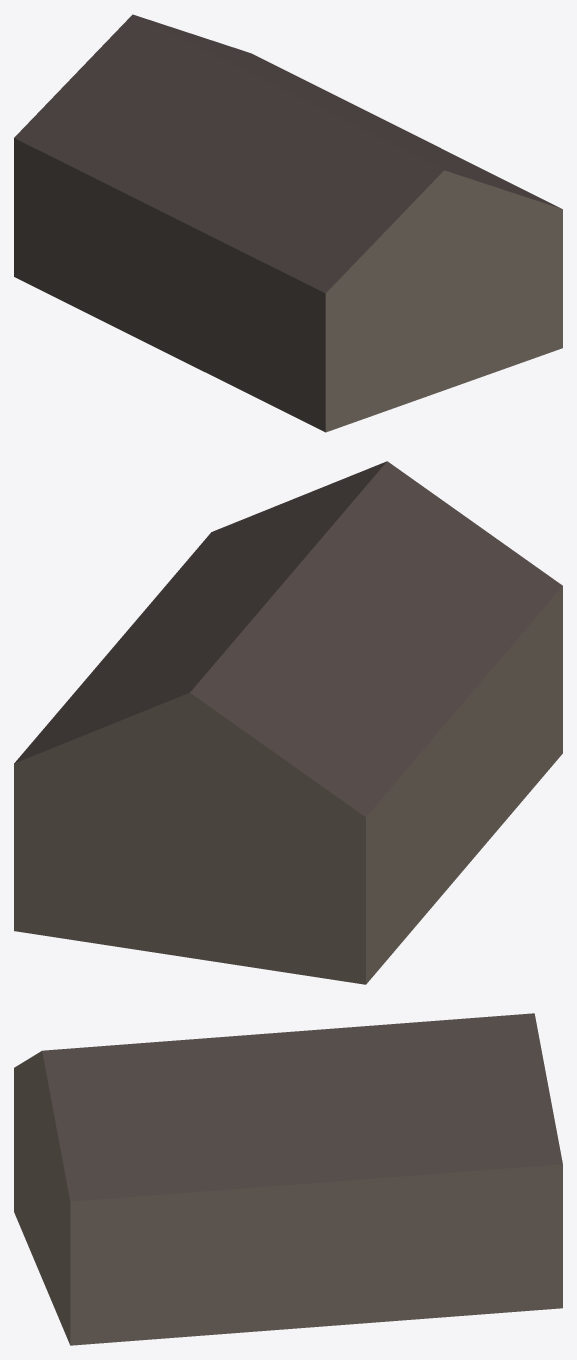
3 views of the same model, one above another, from view 1: azimuth 30°, elevation 25°; view 2: azimuth 150°, elevation 25°; view 3: azimuth 270°, elevation 25° (orthographic). The views are drawn at different scales.
Visible parts, largest first — view 1: HP-w1376988695; view 2: HP-w1376988695; view 3: HP-w1376988695.
Part boxes in pixels (x1,y1,x2,y2): HP-w1376988695: (14,14,562,432); HP-w1376988695: (14,461,562,984); HP-w1376988695: (14,1013,562,1345).
Bounding box in the file's own units: 15.31 × 9.51 × 20.74.
